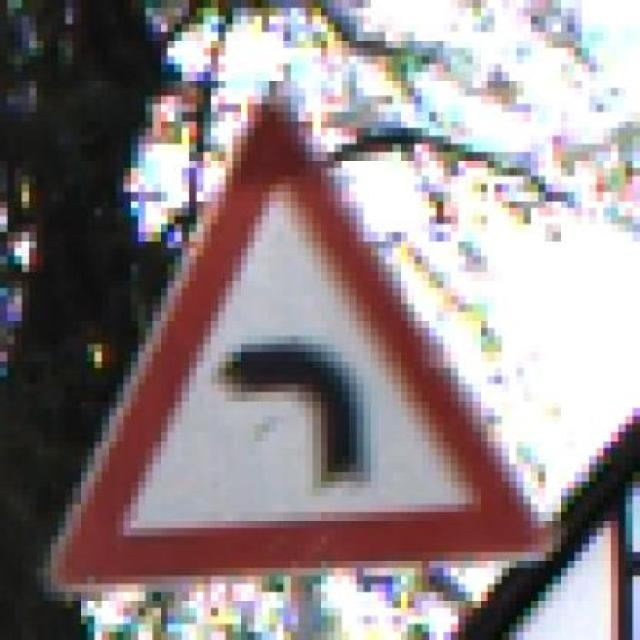Dangerous Left Curve Ahead: (43, 56, 568, 584)
